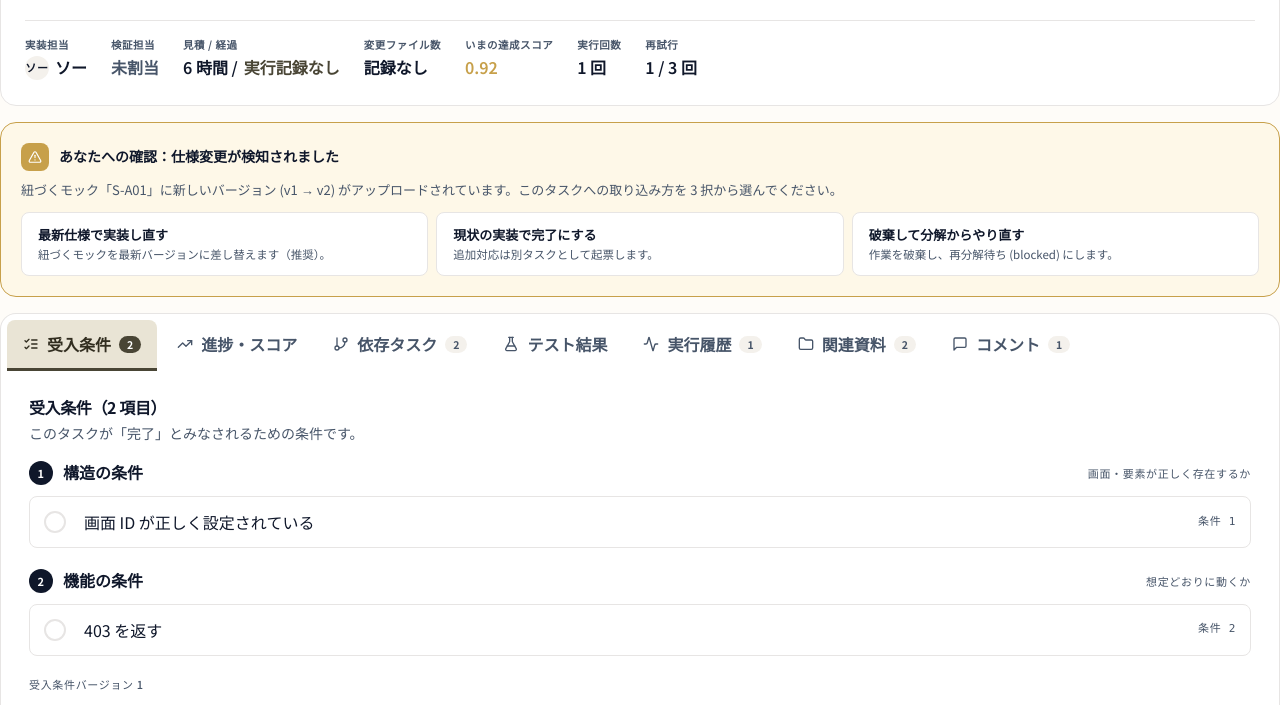
Test case: S-I02 GAP-025 (仕様変更 3 択 / テスト結果 / 関連資料 / メタ) › 関連資料タブ: 実リンクのみ描画 (href 有はリンク)
The width and height of the screenshot is (1280, 705).
(page scrolled)
Click the tab "関連資料 2" at (857, 346), box [782,320,932,372]
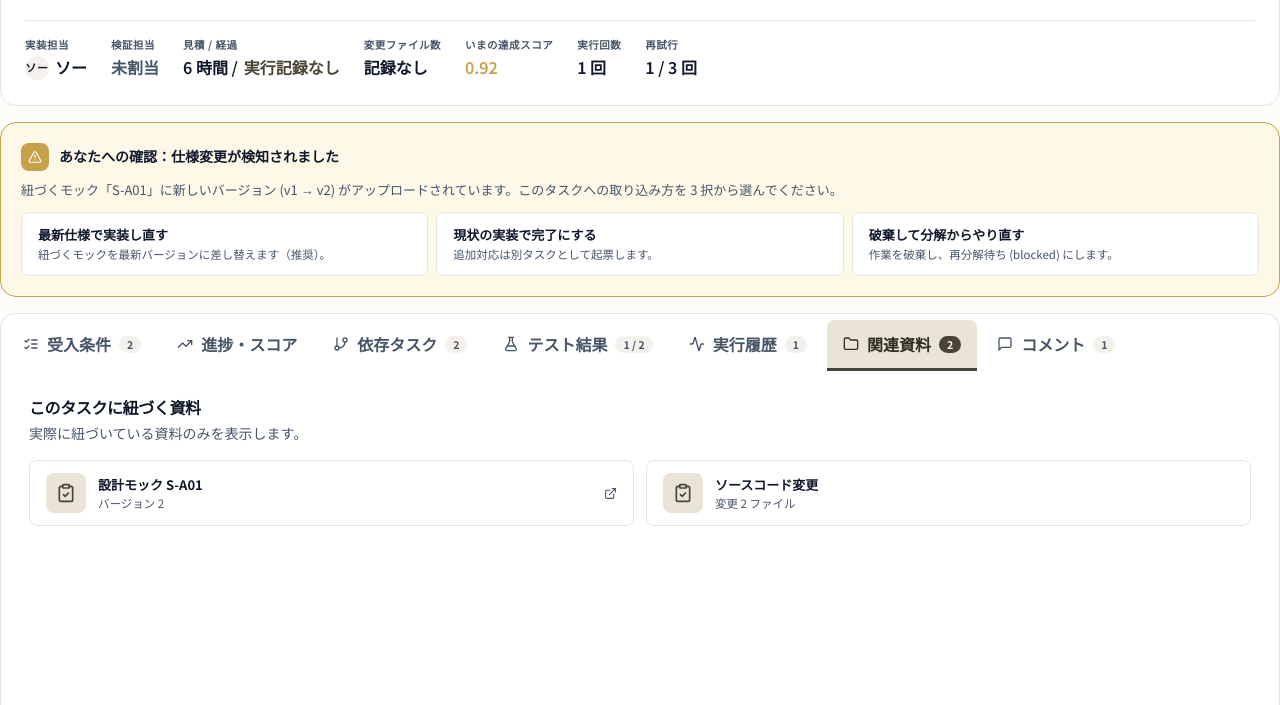
Result: the text "変更 2 ファイル" is shown at [715,495,796,511]
